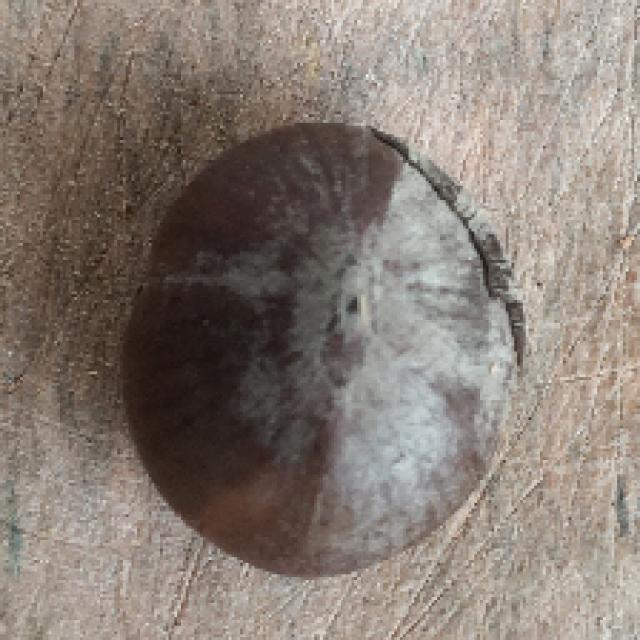damagedHazelnut: (119, 114, 532, 574)
